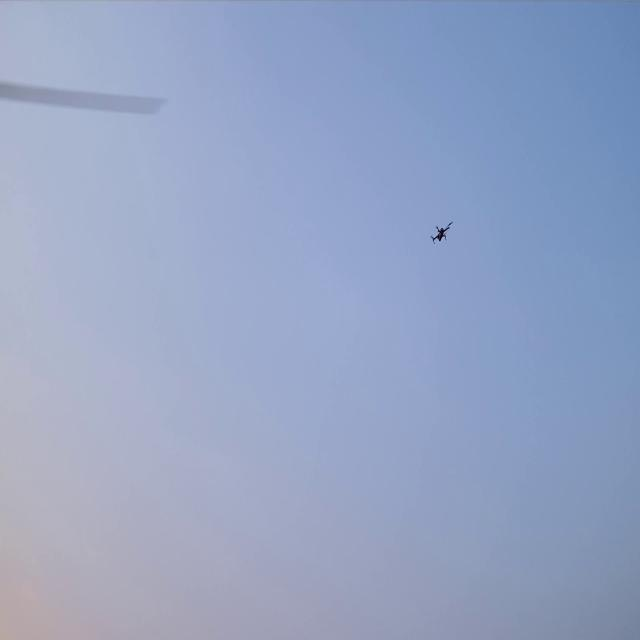UAV: (431, 218, 454, 246)
